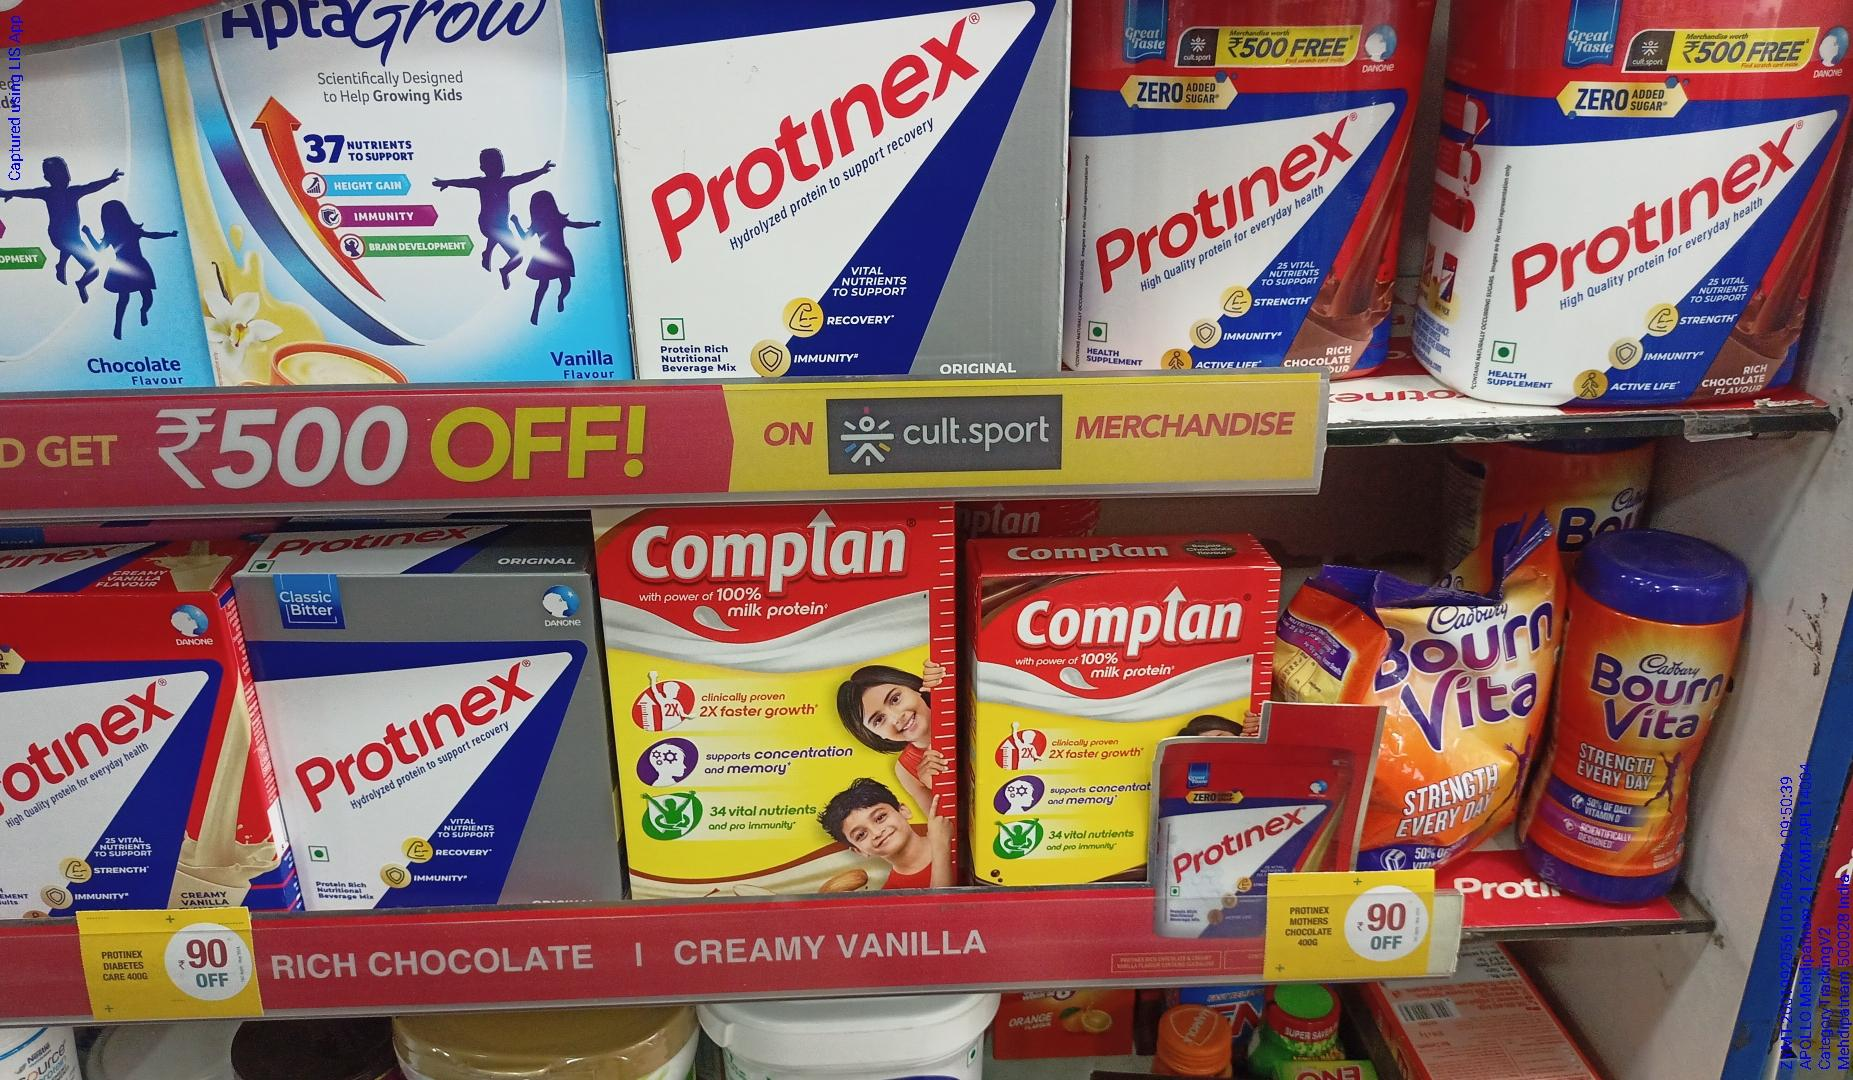BOURN_VITA_200_G_JAR: (1557, 526, 1735, 896)
